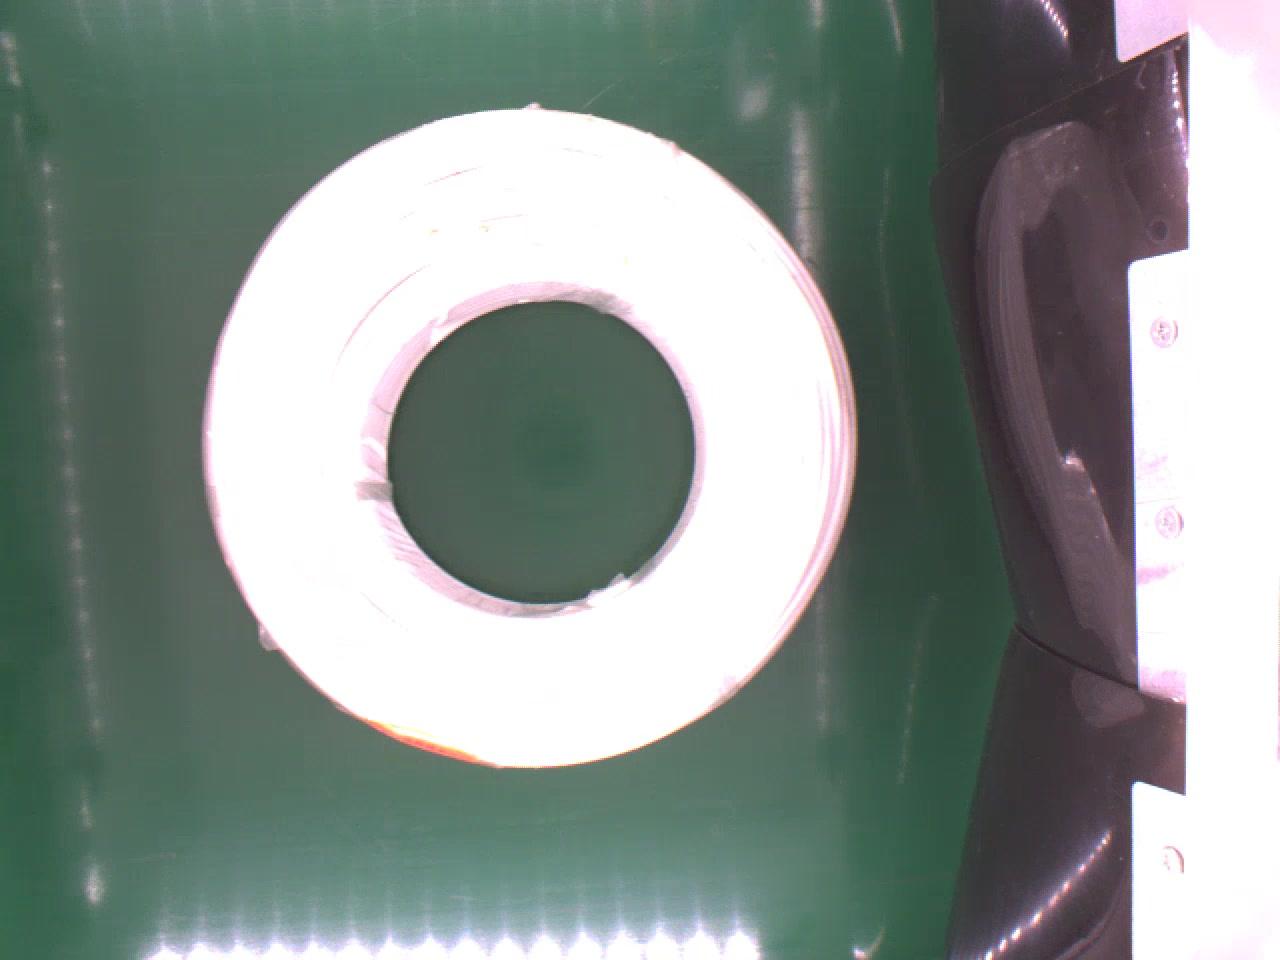white: (197, 103, 863, 788)
